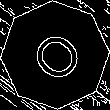O_SE: (21, 22, 89, 88)
